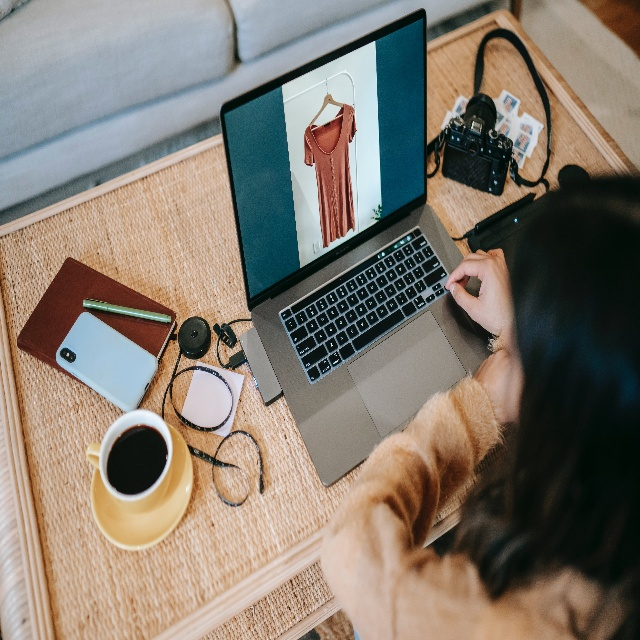Sin_guantes: (444, 251, 514, 330)
